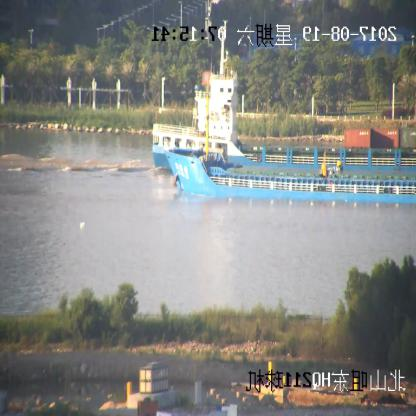Bulk Carrier: (150, 43, 416, 169), (169, 78, 415, 205)
